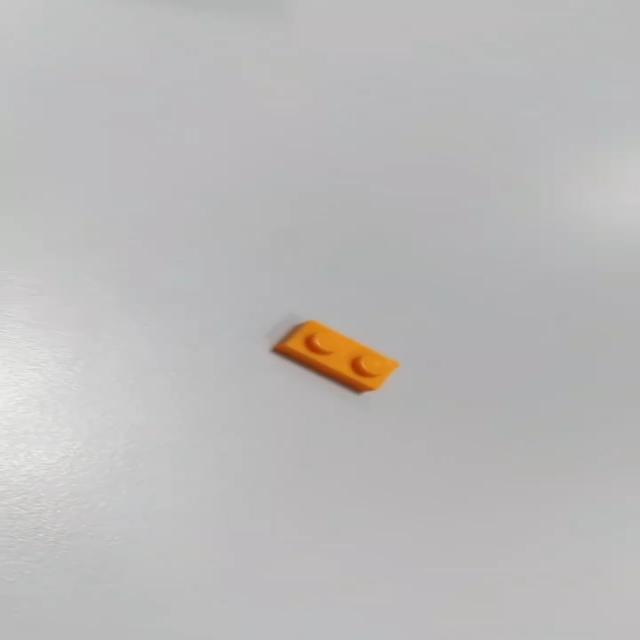C2x1x0: (269, 318, 402, 394)
